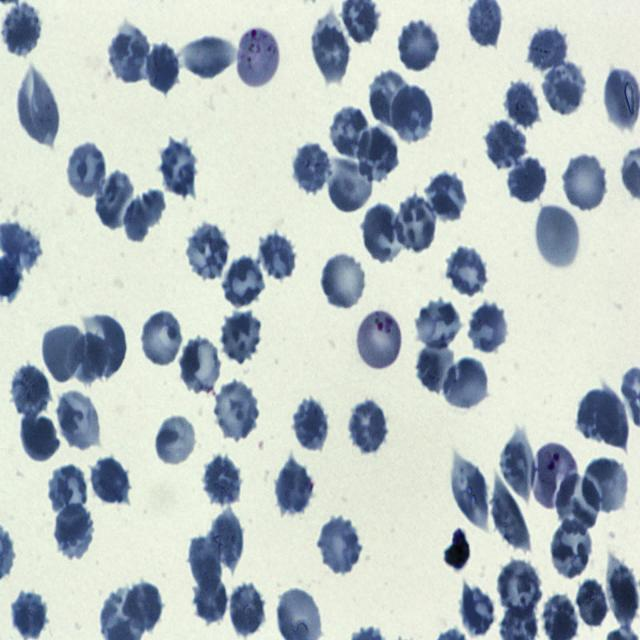red blood cell: (17, 67, 60, 144), (492, 473, 533, 553), (534, 203, 581, 270), (449, 450, 488, 530), (498, 431, 536, 508), (562, 151, 608, 213), (556, 472, 602, 534), (325, 155, 375, 212), (319, 251, 366, 311), (309, 17, 351, 84), (85, 313, 128, 378), (495, 559, 542, 618), (57, 389, 101, 452), (582, 456, 630, 513), (550, 518, 594, 580), (182, 35, 240, 82), (361, 203, 404, 266), (178, 335, 223, 395), (369, 67, 413, 128), (414, 298, 463, 352), (212, 384, 260, 439), (318, 515, 362, 574), (185, 223, 230, 280), (140, 310, 184, 368), (607, 551, 639, 630), (394, 196, 438, 253), (42, 323, 83, 384), (444, 358, 489, 413), (356, 127, 401, 182), (154, 413, 198, 468), (222, 254, 266, 309), (542, 62, 585, 118), (413, 340, 456, 396), (65, 141, 107, 198), (209, 510, 247, 573), (397, 18, 441, 72), (66, 331, 110, 385), (392, 86, 434, 142), (446, 242, 488, 298), (219, 312, 264, 364), (54, 502, 94, 560), (276, 456, 314, 517), (108, 28, 150, 83), (96, 170, 135, 229), (158, 139, 199, 195), (10, 362, 50, 419), (47, 464, 90, 517), (596, 385, 629, 453), (576, 391, 618, 444), (201, 454, 242, 508), (348, 399, 388, 454), (3, 2, 43, 57), (526, 24, 568, 76), (290, 398, 328, 454), (291, 140, 330, 193), (228, 582, 266, 636), (123, 582, 164, 632), (330, 107, 370, 158), (466, 305, 508, 353), (485, 121, 526, 170), (20, 413, 61, 462), (427, 172, 467, 222), (459, 582, 496, 636), (187, 538, 222, 595), (90, 455, 129, 506), (258, 232, 298, 281), (508, 156, 549, 203), (125, 191, 164, 240), (194, 571, 228, 626), (12, 591, 50, 640), (574, 579, 610, 630), (144, 44, 180, 94), (505, 80, 539, 129)
ring: (532, 440, 578, 510), (354, 308, 404, 372), (235, 27, 281, 90)
